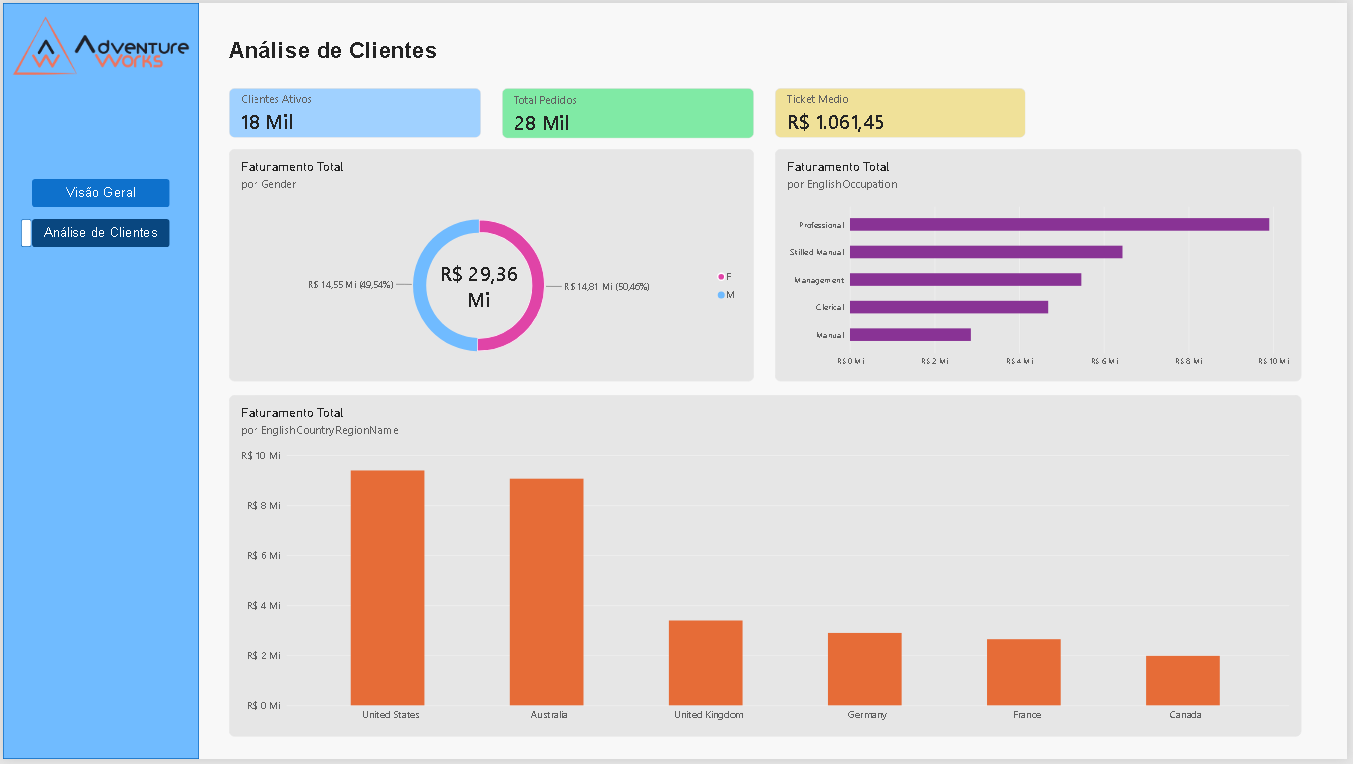

The page's visual inventory and layout, read from the dashboard file:
{"tool":"powerbi","page":{"name":"Análise de Clientes","canvas":[1920,1080],"ordinal":1},"visuals":[{"type":"shape","box":[0,0,280,1080],"z":0},{"type":"image","box":[0,0,280,122],"z":1000},{"type":"textbox","box":[323.3,48.3,360,40],"z":2000},{"type":"donutChart","title":"Faturamento por Gênero","fields":{"Category":["DimCustomer.Gender"],"Y":["FactInternetSales.Faturamento Total"]},"box":[323.3,208.3,750,331.7],"z":3000},{"type":"cardVisual","fields":{"Data":["FactInternetSales.Clientes Ativos"]},"box":[323.3,121.7,360,71.7],"z":4000},{"type":"cardVisual","fields":{"Data":["FactInternetSales.Total Pedidos"]},"box":[712.5,121.2,360,72],"z":5000},{"type":"cardVisual","fields":{"Data":["FactInternetSales.Ticket Medio"]},"box":[1103.3,121.7,358.3,71.7],"z":6000},{"type":"clusteredColumnChart","title":"Faturamento por País","fields":{"Category":["DimGeography.EnglishCountryRegionName"],"Y":["FactInternetSales.Faturamento Total"]},"box":[323.3,560,1531.7,488.3],"z":7000},{"type":"barChart","title":"Faturamento por Profissão","fields":{"Category":["DimCustomer.EnglishOccupation"],"Y":["FactInternetSales.Faturamento Total"]},"box":[1103.3,208.3,751.7,331.7],"z":8000},{"type":"actionButton","box":[41.7,250.8,196.7,40],"z":9000},{"type":"actionButton","box":[41.7,308.3,196.7,40],"z":10000},{"type":"shape","box":[25,308.5,12,40],"z":11000},{"type":"cardVisual","fields":{"Data":["FactInternetSales.Frequência de Compra"]},"box":[1495.7,121.4,358.6,71.4],"z":12000},{"type":"actionButton","box":[41.7,361.2,196.7,40],"z":12001}]}

Visuals, with their boxes on the page's 1920x1080 design canvas (x1, y1, x2, y2). These are canvas units, not pixel positions in the 1353x764 screenshot, which may show the page scaled, cropped or inside an application window:
shape: 0 0 280 1080
image: 0 0 280 122
textbox: 323 48 683 88
"Faturamento por Gênero" donutChart: 323 208 1073 540
cardVisual - FactInternetSales.Clientes Ativos: 323 122 683 193
cardVisual - FactInternetSales.Total Pedidos: 712 121 1072 193
cardVisual - FactInternetSales.Ticket Medio: 1103 122 1462 193
"Faturamento por País" clusteredColumnChart: 323 560 1855 1048
"Faturamento por Profissão" barChart: 1103 208 1855 540
actionButton: 42 251 238 291
actionButton: 42 308 238 348
shape: 25 308 37 348
cardVisual - FactInternetSales.Frequência de Compra: 1496 121 1854 193
actionButton: 42 361 238 401
